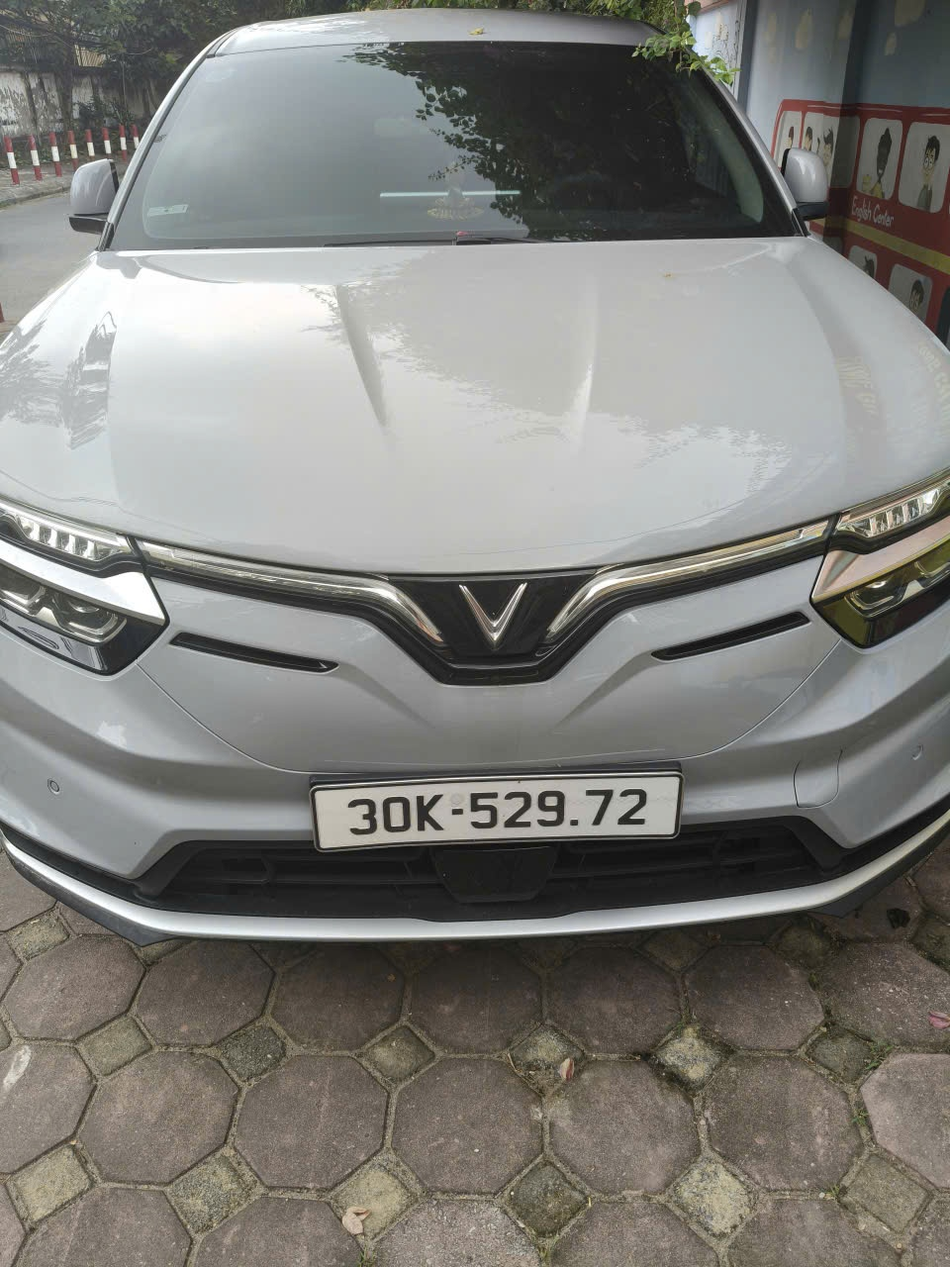plate: (33, 543, 108, 570)
